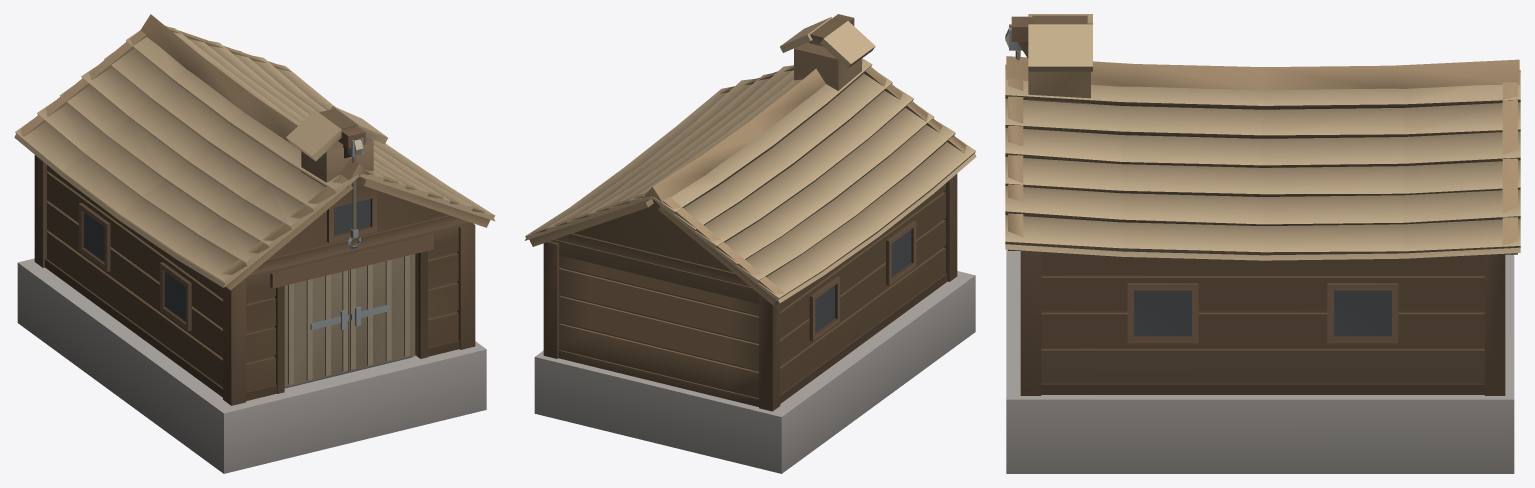
File: warehouse.glb
The picture shows the model from 3 angles, left to right: view 1: azimuth 30°, elevation 25°; view 2: azimuth 150°, elevation 25°; view 3: azimuth 270°, elevation 25°; orthographic projection. The views are drawn at different scales.
Parts seen in each view (by area): view 1: warehouse; view 2: warehouse; view 3: warehouse.
Part boxes in pixels (<box>): warehouse: <box>14,14,495,473</box>; warehouse: <box>524,14,976,473</box>; warehouse: <box>1005,14,1520,473</box>.
Bounding box in the file's own units: 7.2 × 7.77 × 9.6.
